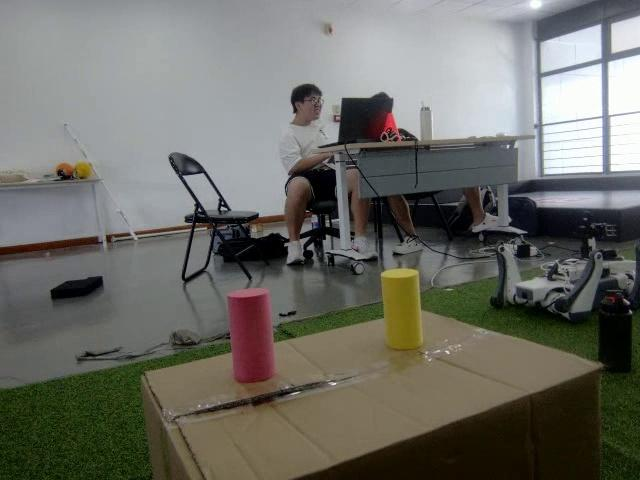red_cylinder: (226, 287, 274, 382)
yellow_cylinder: (381, 270, 423, 350)
